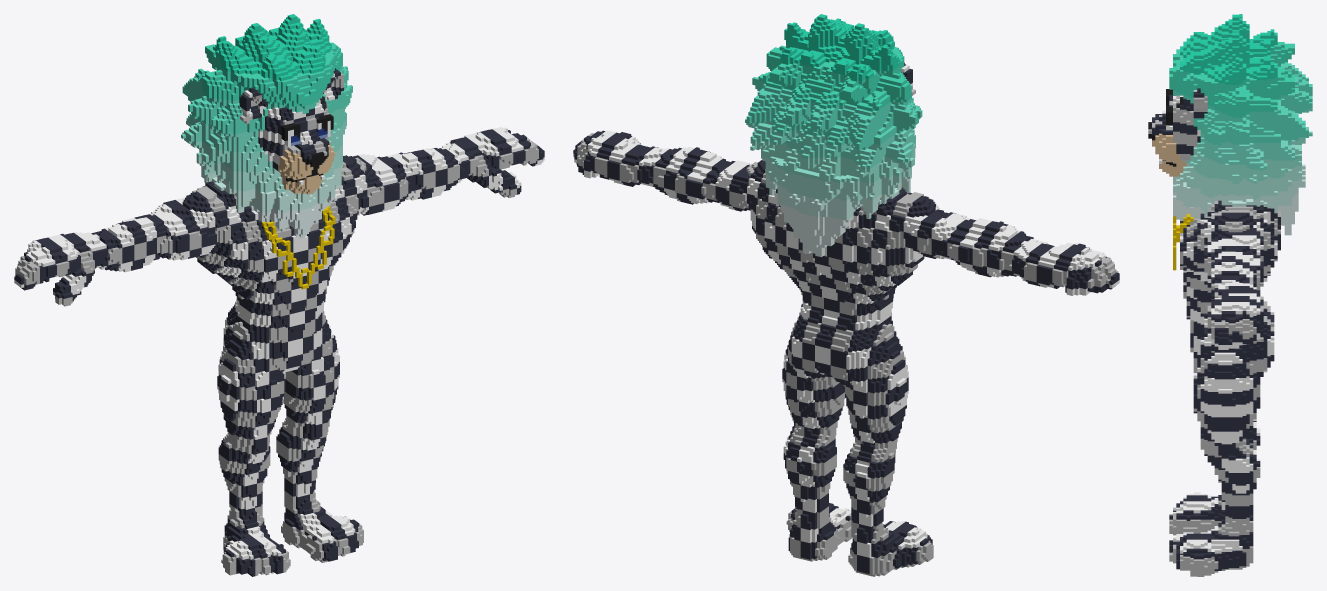
The model's file is 76-Grf8qQdR.glb.
3 views of the same model, side by side, from view 1: azimuth 30°, elevation 25°; view 2: azimuth 150°, elevation 25°; view 3: azimuth 270°, elevation 25° (orthographic). The views are drawn at different scales.
Visible parts, largest first — view 1: standard; view 2: standard; view 3: standard.
Boxes of the visible parts, x1,y1,x2,y2 form: standard: (14, 14, 544, 576); standard: (573, 14, 1119, 576); standard: (1148, 14, 1312, 576).
Size of the model in its own units: 17.2 by 16.5 by 4.7.
6 materials, 6 textured.
